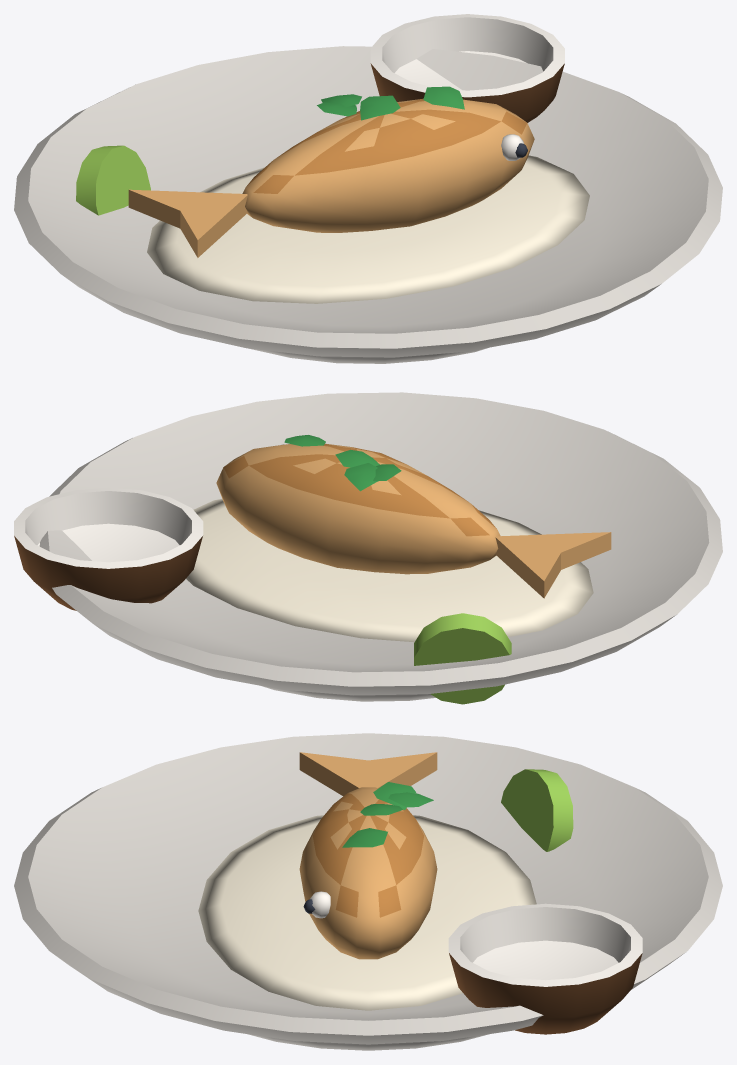
File: peixe-com-coco.glb
The picture shows the model from 3 angles, top to bottom: view 1: azimuth 30°, elevation 25°; view 2: azimuth 150°, elevation 25°; view 3: azimuth 270°, elevation 25°; orthographic projection. The views are drawn at different scales.
Visible parts, largest first — view 1: peixe-com-coco; view 2: peixe-com-coco; view 3: peixe-com-coco.
Part boxes in pixels (x1,y1,x2,y2): peixe-com-coco: [14, 14, 722, 363]; peixe-com-coco: [14, 392, 722, 704]; peixe-com-coco: [14, 733, 722, 1050].
Bounding box in the file's own units: 0.36 × 0.0916 × 0.36.
